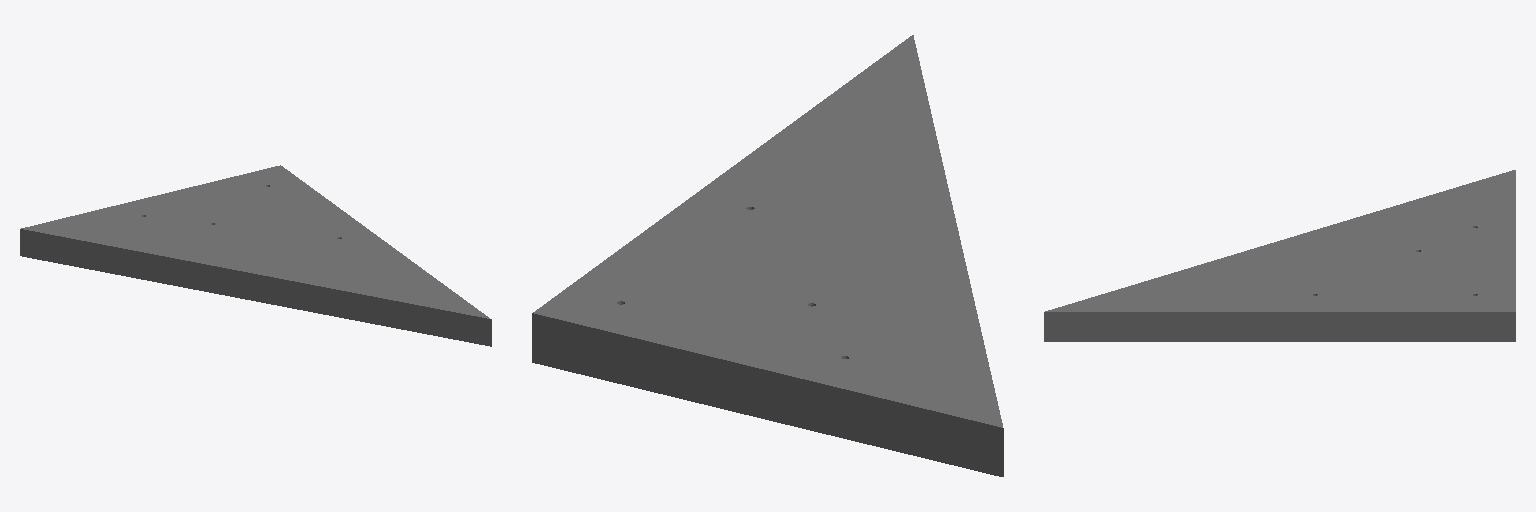
URDF robot description (push_object):
<?xml version="1.0" ?>
<robot name="push_object">
  <link name="link_x">
    <inertial>
      <mass value="0"/>
      <inertia ixx="1.0" ixy="0.0" ixz="0.0" iyy="1.0" iyz="0.0" izz="1.0"/>
    </inertial>
  </link>

  <link name="link_y">
    <inertial>
      <mass value="0"/>
      <inertia ixx="1.0" ixy="0.0" ixz="0.0" iyy="1.0" iyz="0.0" izz="1.0"/>
    </inertial>
  </link>
  
  <link name="link_z">
    <inertial>
      <mass value="0"/>
      <inertia ixx="1.0" ixy="0.0" ixz="0.0" iyy="1.0" iyz="0.0" izz="1.0"/>
    </inertial>
  </link>
  
  <link name="link_yaw">
    <inertial>
      <mass value="0"/>
      <inertia ixx="1.0" ixy="0.0" ixz="0.0" iyy="1.0" iyz="0.0" izz="1.0"/>
    </inertial>
  </link>

  <link name="link_object">
    <contact>
      <rolling_friction value="0.03"/>
      <spinning_friction value="0.03"/>
    </contact>

    <inertial>
      <origin rpy="0 0 0" xyz="0 0 0"/>
       <mass value="0.006350"/>
       <inertia ixx="1" ixy="0" ixz="0" iyy="1" iyz="0" izz="1.133000"/>
    </inertial>
    <visual>
      <origin rpy="0 0 0" xyz="0 0 0.002960"/>
      <geometry>
        <mesh filename="tri3.obj" scale="1.0 1.0 1.0"/>      
      </geometry>
      <material name="gray">
        <color rgba="0.5 0.5 0.5 1"/>
        <specular rgb="1 1 1"/>
      </material>
    </visual>
    
    <collision>
      <origin rpy="0 0 0" xyz="-0.0700 0.0300 -0.0063"/>
      <geometry>
        <sphere radius="0.0065"/>
      </geometry>
    </collision>
        
    <collision>
      <origin rpy="0 0 0" xyz="-0.0700 0.0400 -0.0063"/>
      <geometry>
        <sphere radius="0.0065"/>
      </geometry>
    </collision>
        
    <collision>
      <origin rpy="0 0 0" xyz="-0.0600 0.0200 -0.0063"/>
      <geometry>
        <sphere radius="0.0065"/>
      </geometry>
    </collision>
        
    <collision>
      <origin rpy="0 0 0" xyz="-0.0600 0.0300 -0.0063"/>
      <geometry>
        <sphere radius="0.0065"/>
      </geometry>
    </collision>
        
    <collision>
      <origin rpy="0 0 0" xyz="-0.0600 0.0400 -0.0063"/>
      <geometry>
        <sphere radius="0.0065"/>
      </geometry>
    </collision>
        
    <collision>
      <origin rpy="0 0 0" xyz="-0.0500 0.0100 -0.0063"/>
      <geometry>
        <sphere radius="0.0065"/>
      </geometry>
    </collision>
        
    <collision>
      <origin rpy="0 0 0" xyz="-0.0500 0.0200 -0.0063"/>
      <geometry>
        <sphere radius="0.0065"/>
      </geometry>
    </collision>
        
    <collision>
      <origin rpy="0 0 0" xyz="-0.0500 0.0300 -0.0063"/>
      <geometry>
        <sphere radius="0.0065"/>
      </geometry>
    </collision>
        
    <collision>
      <origin rpy="0 0 0" xyz="-0.0500 0.0400 -0.0063"/>
      <geometry>
        <sphere radius="0.0065"/>
      </geometry>
    </collision>
        
    <collision>
      <origin rpy="0 0 0" xyz="-0.0400 -0.0100 -0.0063"/>
      <geometry>
        <sphere radius="0.0065"/>
      </geometry>
    </collision>
        
    <collision>
      <origin rpy="0 0 0" xyz="-0.0400 0.0000 -0.0063"/>
      <geometry>
        <sphere radius="0.0065"/>
      </geometry>
    </collision>
        
    <collision>
      <origin rpy="0 0 0" xyz="-0.0400 0.0100 -0.0063"/>
      <geometry>
        <sphere radius="0.0065"/>
      </geometry>
    </collision>
        
    <collision>
      <origin rpy="0 0 0" xyz="-0.0400 0.0200 -0.0063"/>
      <geometry>
        <sphere radius="0.0065"/>
      </geometry>
    </collision>
        
    <collision>
      <origin rpy="0 0 0" xyz="-0.0400 0.0300 -0.0063"/>
      <geometry>
        <sphere radius="0.0065"/>
      </geometry>
    </collision>
        
    <collision>
      <origin rpy="0 0 0" xyz="-0.0400 0.0400 -0.0063"/>
      <geometry>
        <sphere radius="0.0065"/>
      </geometry>
    </collision>
        
    <collision>
      <origin rpy="0 0 0" xyz="-0.0300 -0.0200 -0.0063"/>
      <geometry>
        <sphere radius="0.0065"/>
      </geometry>
    </collision>
        
    <collision>
      <origin rpy="0 0 0" xyz="-0.0300 -0.0100 -0.0063"/>
      <geometry>
        <sphere radius="0.0065"/>
      </geometry>
    </collision>
        
    <collision>
      <origin rpy="0 0 0" xyz="-0.0300 0.0000 -0.0063"/>
      <geometry>
        <sphere radius="0.0065"/>
      </geometry>
    </collision>
        
    <collision>
      <origin rpy="0 0 0" xyz="-0.0300 0.0100 -0.0063"/>
      <geometry>
        <sphere radius="0.0065"/>
      </geometry>
    </collision>
        
    <collision>
      <origin rpy="0 0 0" xyz="-0.0300 0.0200 -0.0063"/>
      <geometry>
        <sphere radius="0.0065"/>
      </geometry>
    </collision>
        
    <collision>
      <origin rpy="0 0 0" xyz="-0.0300 0.0300 -0.0063"/>
      <geometry>
        <sphere radius="0.0065"/>
      </geometry>
    </collision>
        
    <collision>
      <origin rpy="0 0 0" xyz="-0.0300 0.0400 -0.0063"/>
      <geometry>
        <sphere radius="0.0065"/>
      </geometry>
    </collision>
        
    <collision>
      <origin rpy="0 0 0" xyz="-0.0200 -0.0400 -0.0063"/>
      <geometry>
        <sphere radius="0.0065"/>
      </geometry>
    </collision>
        
    <collision>
      <origin rpy="0 0 0" xyz="-0.0200 -0.0300 -0.0063"/>
      <geometry>
        <sphere radius="0.0065"/>
      </geometry>
    </collision>
        
    <collision>
      <origin rpy="0 0 0" xyz="-0.0200 -0.0200 -0.0063"/>
      <geometry>
        <sphere radius="0.0065"/>
      </geometry>
    </collision>
        
    <collision>
      <origin rpy="0 0 0" xyz="-0.0200 -0.0100 -0.0063"/>
      <geometry>
        <sphere radius="0.0065"/>
      </geometry>
    </collision>
        
    <collision>
      <origin rpy="0 0 0" xyz="-0.0200 0.0000 -0.0063"/>
      <geometry>
        <sphere radius="0.0065"/>
      </geometry>
    </collision>
        
    <collision>
      <origin rpy="0 0 0" xyz="-0.0200 0.0100 -0.0063"/>
      <geometry>
        <sphere radius="0.0065"/>
      </geometry>
    </collision>
        
    <collision>
      <origin rpy="0 0 0" xyz="-0.0200 0.0200 -0.0063"/>
      <geometry>
        <sphere radius="0.0065"/>
      </geometry>
    </collision>
        
    <collision>
      <origin rpy="0 0 0" xyz="-0.0200 0.0300 -0.0063"/>
      <geometry>
        <sphere radius="0.0065"/>
      </geometry>
    </collision>
        
    <collision>
      <origin rpy="0 0 0" xyz="-0.0200 0.0400 -0.0063"/>
      <geometry>
        <sphere radius="0.0065"/>
      </geometry>
    </collision>
        
    <collision>
      <origin rpy="0 0 0" xyz="-0.0100 -0.0500 -0.0063"/>
      <geometry>
        <sphere radius="0.0065"/>
      </geometry>
    </collision>
        
    <collision>
      <origin rpy="0 0 0" xyz="-0.0100 -0.0400 -0.0063"/>
      <geometry>
        <sphere radius="0.0065"/>
      </geometry>
    </collision>
        
    <collision>
      <origin rpy="0 0 0" xyz="-0.0100 -0.0300 -0.0063"/>
      <geometry>
        <sphere radius="0.0065"/>
      </geometry>
    </collision>
        
    <collision>
      <origin rpy="0 0 0" xyz="-0.0100 -0.0200 -0.0063"/>
      <geometry>
        <sphere radius="0.0065"/>
      </geometry>
    </collision>
        
    <collision>
      <origin rpy="0 0 0" xyz="-0.0100 -0.0100 -0.0063"/>
      <geometry>
        <sphere radius="0.0065"/>
      </geometry>
    </collision>
        
    <collision>
      <origin rpy="0 0 0" xyz="-0.0100 0.0000 -0.0063"/>
      <geometry>
        <sphere radius="0.0065"/>
      </geometry>
    </collision>
        
    <collision>
      <origin rpy="0 0 0" xyz="-0.0100 0.0100 -0.0063"/>
      <geometry>
        <sphere radius="0.0065"/>
      </geometry>
    </collision>
        
    <collision>
      <origin rpy="0 0 0" xyz="-0.0100 0.0200 -0.0063"/>
      <geometry>
        <sphere radius="0.0065"/>
      </geometry>
    </collision>
        
    <collision>
      <origin rpy="0 0 0" xyz="-0.0100 0.0300 -0.0063"/>
      <geometry>
        <sphere radius="0.0065"/>
      </geometry>
    </collision>
        
    <collision>
      <origin rpy="0 0 0" xyz="-0.0100 0.0400 -0.0063"/>
      <geometry>
        <sphere radius="0.0065"/>
      </geometry>
    </collision>
        
    <collision>
      <origin rpy="0 0 0" xyz="-0.0000 -0.0600 -0.0063"/>
      <geometry>
        <sphere radius="0.0065"/>
      </geometry>
    </collision>
        
    <collision>
      <origin rpy="0 0 0" xyz="-0.0000 -0.0500 -0.0063"/>
      <geometry>
        <sphere radius="0.0065"/>
      </geometry>
    </collision>
        
    <collision>
      <origin rpy="0 0 0" xyz="-0.0000 -0.0400 -0.0063"/>
      <geometry>
        <sphere radius="0.0065"/>
      </geometry>
    </collision>
        
    <collision>
      <origin rpy="0 0 0" xyz="-0.0000 -0.0300 -0.0063"/>
      <geometry>
        <sphere radius="0.0065"/>
      </geometry>
    </collision>
        
    <collision>
      <origin rpy="0 0 0" xyz="-0.0000 -0.0200 -0.0063"/>
      <geometry>
        <sphere radius="0.0065"/>
      </geometry>
    </collision>
        
    <collision>
      <origin rpy="0 0 0" xyz="-0.0000 -0.0100 -0.0063"/>
      <geometry>
        <sphere radius="0.0065"/>
      </geometry>
    </collision>
        
    <collision>
      <origin rpy="0 0 0" xyz="-0.0000 0.0000 -0.0063"/>
      <geometry>
        <sphere radius="0.0065"/>
      </geometry>
    </collision>
        
    <collision>
      <origin rpy="0 0 0" xyz="-0.0000 0.0100 -0.0063"/>
      <geometry>
        <sphere radius="0.0065"/>
      </geometry>
    </collision>
        
    <collision>
      <origin rpy="0 0 0" xyz="-0.0000 0.0200 -0.0063"/>
      <geometry>
        <sphere radius="0.0065"/>
      </geometry>
    </collision>
        
    <collision>
      <origin rpy="0 0 0" xyz="-0.0000 0.0300 -0.0063"/>
      <geometry>
        <sphere radius="0.0065"/>
      </geometry>
    </collision>
        
    <collision>
      <origin rpy="0 0 0" xyz="-0.0000 0.0400 -0.0063"/>
      <geometry>
        <sphere radius="0.0065"/>
      </geometry>
    </collision>
        
    <collision>
      <origin rpy="0 0 0" xyz="0.0100 -0.0800 -0.0063"/>
      <geometry>
        <sphere radius="0.0065"/>
      </geometry>
    </collision>
        
    <collision>
      <origin rpy="0 0 0" xyz="0.0100 -0.0700 -0.0063"/>
      <geometry>
        <sphere radius="0.0065"/>
      </geometry>
    </collision>
        
    <collision>
      <origin rpy="0 0 0" xyz="0.0100 -0.0600 -0.0063"/>
      <geometry>
        <sphere radius="0.0065"/>
      </geometry>
    </collision>
        
    <collision>
      <origin rpy="0 0 0" xyz="0.0100 -0.0500 -0.0063"/>
      <geometry>
        <sphere radius="0.0065"/>
      </geometry>
    </collision>
        
    <collision>
      <origin rpy="0 0 0" xyz="0.0100 -0.0400 -0.0063"/>
      <geometry>
        <sphere radius="0.0065"/>
      </geometry>
    </collision>
        
    <collision>
      <origin rpy="0 0 0" xyz="0.0100 -0.0300 -0.0063"/>
      <geometry>
        <sphere radius="0.0065"/>
      </geometry>
    </collision>
        
    <collision>
      <origin rpy="0 0 0" xyz="0.0100 -0.0200 -0.0063"/>
      <geometry>
        <sphere radius="0.0065"/>
      </geometry>
    </collision>
        
    <collision>
      <origin rpy="0 0 0" xyz="0.0100 -0.0100 -0.0063"/>
      <geometry>
        <sphere radius="0.0065"/>
      </geometry>
    </collision>
        
    <collision>
      <origin rpy="0 0 0" xyz="0.0100 0.0000 -0.0063"/>
      <geometry>
        <sphere radius="0.0065"/>
      </geometry>
    </collision>
        
    <collision>
      <origin rpy="0 0 0" xyz="0.0100 0.0100 -0.0063"/>
      <geometry>
        <sphere radius="0.0065"/>
      </geometry>
    </collision>
        
    <collision>
      <origin rpy="0 0 0" xyz="0.0100 0.0200 -0.0063"/>
      <geometry>
        <sphere radius="0.0065"/>
      </geometry>
    </collision>
        
    <collision>
      <origin rpy="0 0 0" xyz="0.0100 0.0300 -0.0063"/>
      <geometry>
        <sphere radius="0.0065"/>
      </geometry>
    </collision>
        
    <collision>
      <origin rpy="0 0 0" xyz="0.0100 0.0400 -0.0063"/>
      <geometry>
        <sphere radius="0.0065"/>
      </geometry>
    </collision>
        
    <collision>
      <origin rpy="0 0 0" xyz="0.0200 -0.0900 -0.0063"/>
      <geometry>
        <sphere radius="0.0065"/>
      </geometry>
    </collision>
        
    <collision>
      <origin rpy="0 0 0" xyz="0.0200 -0.0800 -0.0063"/>
      <geometry>
        <sphere radius="0.0065"/>
      </geometry>
    </collision>
        
    <collision>
      <origin rpy="0 0 0" xyz="0.0200 -0.0700 -0.0063"/>
      <geometry>
        <sphere radius="0.0065"/>
      </geometry>
    </collision>
        
    <collision>
      <origin rpy="0 0 0" xyz="0.0200 -0.0600 -0.0063"/>
      <geometry>
        <sphere radius="0.0065"/>
      </geometry>
    </collision>
        
    <collision>
      <origin rpy="0 0 0" xyz="0.0200 -0.0500 -0.0063"/>
      <geometry>
        <sphere radius="0.0065"/>
      </geometry>
    </collision>
        
    <collision>
      <origin rpy="0 0 0" xyz="0.0200 -0.0400 -0.0063"/>
      <geometry>
        <sphere radius="0.0065"/>
      </geometry>
    </collision>
        
    <collision>
      <origin rpy="0 0 0" xyz="0.0200 -0.0300 -0.0063"/>
      <geometry>
        <sphere radius="0.0065"/>
      </geometry>
    </collision>
        
    <collision>
      <origin rpy="0 0 0" xyz="0.0200 -0.0200 -0.0063"/>
      <geometry>
        <sphere radius="0.0065"/>
      </geometry>
    </collision>
        
    <collision>
      <origin rpy="0 0 0" xyz="0.0200 -0.0100 -0.0063"/>
      <geometry>
        <sphere radius="0.0065"/>
      </geometry>
    </collision>
        
    <collision>
      <origin rpy="0 0 0" xyz="0.0200 0.0000 -0.0063"/>
      <geometry>
        <sphere radius="0.0065"/>
      </geometry>
    </collision>
        
    <collision>
      <origin rpy="0 0 0" xyz="0.0200 0.0100 -0.0063"/>
      <geometry>
        <sphere radius="0.0065"/>
      </geometry>
    </collision>
        
    <collision>
      <origin rpy="0 0 0" xyz="0.0200 0.0200 -0.0063"/>
      <geometry>
        <sphere radius="0.0065"/>
      </geometry>
    </collision>
        
    <collision>
      <origin rpy="0 0 0" xyz="0.0200 0.0300 -0.0063"/>
      <geometry>
        <sphere radius="0.0065"/>
      </geometry>
    </collision>
        
    <collision>
      <origin rpy="0 0 0" xyz="0.0200 0.0400 -0.0063"/>
      <geometry>
        <sphere radius="0.0065"/>
      </geometry>
    </collision>
        
    <collision>
      <origin rpy="0 0 0" xyz="0.0300 -0.1100 -0.0063"/>
      <geometry>
        <sphere radius="0.0065"/>
      </geometry>
    </collision>
        
    <collision>
      <origin rpy="0 0 0" xyz="0.0300 -0.1000 -0.0063"/>
      <geometry>
        <sphere radius="0.0065"/>
      </geometry>
    </collision>
        
    <collision>
      <origin rpy="0 0 0" xyz="0.0300 -0.0900 -0.0063"/>
      <geometry>
        <sphere radius="0.0065"/>
      </geometry>
    </collision>
        
    <collision>
      <origin rpy="0 0 0" xyz="0.0300 -0.0800 -0.0063"/>
      <geometry>
        <sphere radius="0.0065"/>
      </geometry>
    </collision>
        
    <collision>
      <origin rpy="0 0 0" xyz="0.0300 -0.0700 -0.0063"/>
      <geometry>
        <sphere radius="0.0065"/>
      </geometry>
    </collision>
        
    <collision>
      <origin rpy="0 0 0" xyz="0.0300 -0.0600 -0.0063"/>
      <geometry>
        <sphere radius="0.0065"/>
      </geometry>
    </collision>
        
    <collision>
      <origin rpy="0 0 0" xyz="0.0300 -0.0500 -0.0063"/>
      <geometry>
        <sphere radius="0.0065"/>
      </geometry>
    </collision>
        
    <collision>
      <origin rpy="0 0 0" xyz="0.0300 -0.0400 -0.0063"/>
      <geometry>
        <sphere radius="0.0065"/>
      </geometry>
    </collision>
        
    <collision>
      <origin rpy="0 0 0" xyz="0.0300 -0.0300 -0.0063"/>
      <geometry>
        <sphere radius="0.0065"/>
      </geometry>
    </collision>
        
    <collision>
      <origin rpy="0 0 0" xyz="0.0300 -0.0200 -0.0063"/>
      <geometry>
        <sphere radius="0.0065"/>
      </geometry>
    </collision>
        
    <collision>
      <origin rpy="0 0 0" xyz="0.0300 -0.0100 -0.0063"/>
      <geometry>
        <sphere radius="0.0065"/>
      </geometry>
    </collision>
        
    <collision>
      <origin rpy="0 0 0" xyz="0.0300 0.0000 -0.0063"/>
      <geometry>
        <sphere radius="0.0065"/>
      </geometry>
    </collision>
        
    <collision>
      <origin rpy="0 0 0" xyz="0.0300 0.0100 -0.0063"/>
      <geometry>
        <sphere radius="0.0065"/>
      </geometry>
    </collision>
        
    <collision>
      <origin rpy="0 0 0" xyz="0.0300 0.0200 -0.0063"/>
      <geometry>
        <sphere radius="0.0065"/>
      </geometry>
    </collision>
        
    <collision>
      <origin rpy="0 0 0" xyz="0.0300 0.0300 -0.0063"/>
      <geometry>
        <sphere radius="0.0065"/>
      </geometry>
    </collision>
        
    <collision>
      <origin rpy="0 0 0" xyz="0.0300 0.0400 -0.0063"/>
      <geometry>
        <sphere radius="0.0065"/>
      </geometry>
    </collision>
        
    <collision>
      <origin rpy="0 0 0" xyz="0.0400 -0.1200 -0.0063"/>
      <geometry>
        <sphere radius="0.0065"/>
      </geometry>
    </collision>
        
    <collision>
      <origin rpy="0 0 0" xyz="0.0400 -0.1100 -0.0063"/>
      <geometry>
        <sphere radius="0.0065"/>
      </geometry>
    </collision>
        
    <collision>
      <origin rpy="0 0 0" xyz="0.0400 -0.1000 -0.0063"/>
      <geometry>
        <sphere radius="0.0065"/>
      </geometry>
    </collision>
        
    <collision>
      <origin rpy="0 0 0" xyz="0.0400 -0.0900 -0.0063"/>
      <geometry>
        <sphere radius="0.0065"/>
      </geometry>
    </collision>
        
    <collision>
      <origin rpy="0 0 0" xyz="0.0400 -0.0800 -0.0063"/>
      <geometry>
        <sphere radius="0.0065"/>
      </geometry>
    </collision>
        
    <collision>
      <origin rpy="0 0 0" xyz="0.0400 -0.0700 -0.0063"/>
      <geometry>
        <sphere radius="0.0065"/>
      </geometry>
    </collision>
        
    <collision>
      <origin rpy="0 0 0" xyz="0.0400 -0.0600 -0.0063"/>
      <geometry>
        <sphere radius="0.0065"/>
      </geometry>
    </collision>
        
    <collision>
      <origin rpy="0 0 0" xyz="0.0400 -0.0500 -0.0063"/>
      <geometry>
        <sphere radius="0.0065"/>
      </geometry>
    </collision>
        
    <collision>
      <origin rpy="0 0 0" xyz="0.0400 -0.0400 -0.0063"/>
      <geometry>
        <sphere radius="0.0065"/>
      </geometry>
    </collision>
        
    <collision>
      <origin rpy="0 0 0" xyz="0.0400 -0.0300 -0.0063"/>
      <geometry>
        <sphere radius="0.0065"/>
      </geometry>
    </collision>
        
    <collision>
      <origin rpy="0 0 0" xyz="0.0400 -0.0200 -0.0063"/>
      <geometry>
        <sphere radius="0.0065"/>
      </geometry>
    </collision>
        
    <collision>
      <origin rpy="0 0 0" xyz="0.0400 -0.0100 -0.0063"/>
      <geometry>
        <sphere radius="0.0065"/>
      </geometry>
    </collision>
        
    <collision>
      <origin rpy="0 0 0" xyz="0.0400 0.0000 -0.0063"/>
      <geometry>
        <sphere radius="0.0065"/>
      </geometry>
    </collision>
        
    <collision>
      <origin rpy="0 0 0" xyz="0.0400 0.0100 -0.0063"/>
      <geometry>
        <sphere radius="0.0065"/>
      </geometry>
    </collision>
        
    <collision>
      <origin rpy="0 0 0" xyz="0.0400 0.0200 -0.0063"/>
      <geometry>
        <sphere radius="0.0065"/>
      </geometry>
    </collision>
        
    <collision>
      <origin rpy="0 0 0" xyz="0.0400 0.0300 -0.0063"/>
      <geometry>
        <sphere radius="0.0065"/>
      </geometry>
    </collision>
        
    <collision>
      <origin rpy="0 0 0" xyz="0.0400 0.0400 -0.0063"/>
      <geometry>
        <sphere radius="0.0065"/>
      </geometry>
    </collision>
        
  </link>
  
  <joint name="joint_x" type="prismatic">
    <axis xyz="1 0 0"/>
    <origin xyz="0.0 0.0 0"/>
    <parent link="link_x"/>
    <child link="link_y"/>
    <limit effort="1000.0" lower="-15" upper="15" velocity="5"/>
  </joint>

  <joint name="joint_y" type="prismatic">
    <axis xyz="0 1 0"/>
    <origin xyz="0.0 0.0 0"/>
    <parent link="link_y"/>
    <child link="link_z"/>
    <limit effort="1000.0" lower="-15" upper="15" velocity="5"/>
  </joint>

  <joint name="joint_z" type="prismatic">
    <axis xyz="0 0 1"/>
    <origin xyz="0.0 0.0 0"/>
    <parent link="link_z"/>
    <child link="link_yaw"/>
    <limit effort="1000.0" lower="-15" upper="15" velocity="5"/>
  </joint>

  <joint name="joint_yaw" type="continuous">
    <axis xyz="0 0 1"/>
    <origin xyz="0.0 0.0 0"/>
    <parent link="link_yaw"/>
    <child link="link_object"/>
  </joint>
</robot>

--- Facts derived from the render (not from the file) ---
The picture shows the robot from 3 angles, left to right: view 1: azimuth 30°, elevation 25°; view 2: azimuth 150°, elevation 25°; view 3: azimuth 270°, elevation 25°; orthographic projection.
Model push_object with 5 links and 4 joints (1 continuous, 3 prismatic), rooted at link_x, posed all joints at 0.
Links seen in each view (by area): view 1: link_object; view 2: link_object; view 3: link_object.
Boxes of the visible links, x1=… form: link_object: x1=20, y1=165, x2=491, y2=346; link_object: x1=532, y1=35, x2=1003, y2=476; link_object: x1=1044, y1=170, x2=1515, y2=341.
Size in the robot's own frame: 0.126 by 0.1766 by 0.0127 metres.
1 mesh visuals loaded from 1 distinct referenced files (1 OBJ).